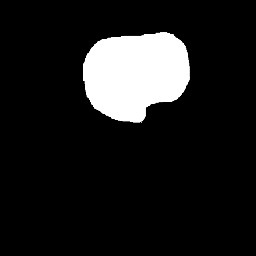mass: (82, 38, 192, 123)
